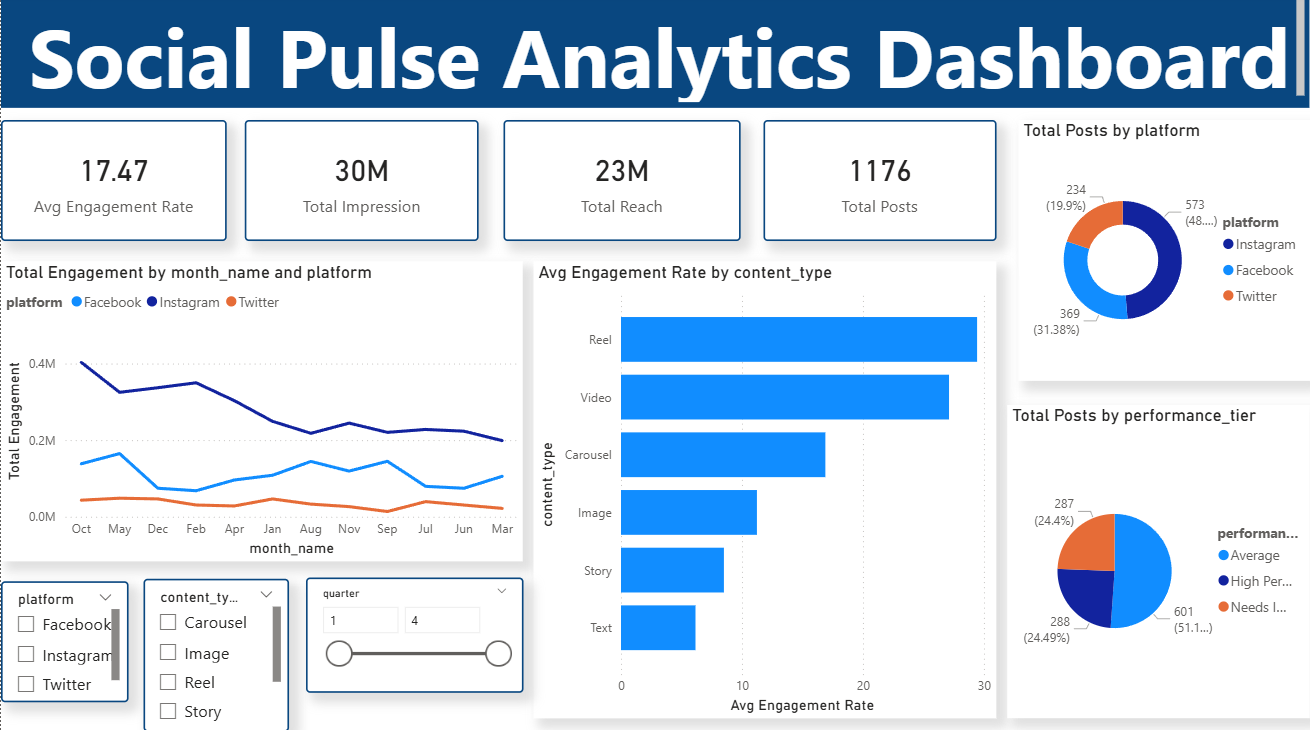

This screenshot's page, from the dashboard's own definition file:
{"tool":"powerbi","page":{"name":"Page 1","canvas":[1280,720],"ordinal":0},"visuals":[{"type":"card","fields":{"Values":["DateTable.Total Reach"]},"box":[491.3,122.1,231.9,118],"z":0},{"type":"card","fields":{"Values":["DateTable.Total Posts"]},"box":[746.5,122.1,227.8,118],"z":1000},{"type":"card","fields":{"Values":["DateTable.Total Impression"]},"box":[238.8,122.1,229.2,118],"z":2000},{"type":"card","fields":{"Values":["DateTable.Avg Engagement Rate"]},"box":[0,122.1,220.9,118],"z":3000},{"type":"lineChart","fields":{"Category":["social_media_cleaned.month_name"],"Y":["DateTable.Total Engagement"],"Series":["social_media_cleaned.platform"]},"box":[0,260.7,510.5,293.7],"z":4000},{"type":"donutChart","fields":{"Category":["social_media_cleaned.platform"],"Y":["DateTable.Total Posts"]},"box":[994.9,122.1,285.4,255.2],"z":5000},{"type":"clusteredBarChart","fields":{"Category":["social_media_cleaned.content_type"],"Y":["DateTable.Avg Engagement Rate"]},"box":[521.4,260.7,452.8,447.3],"z":6000},{"type":"slicer","fields":{"Values":["social_media_cleaned.platform"]},"box":[0,573.6,124.9,118],"z":7000},{"type":"slicer","fields":{"Values":["social_media_cleaned.quarter"]},"box":[297.8,569.5,212.7,112.5],"z":8000},{"type":"slicer","fields":{"Values":["social_media_cleaned.content_type"]},"box":[140,570.8,142.7,149.6],"z":9000},{"type":"pieChart","fields":{"Category":["social_media_cleaned.performance_tier"],"Y":["DateTable.Total Posts"]},"box":[983.9,400.7,296.4,306],"z":10000},{"type":"textbox","box":[0,0,1280,110],"z":11000}]}

Visuals, with their boxes in screenshot pixels (x1, y1, x2, y2), scaled from the page's 1280x720 canvas onto the 1310x730 screenshot:
card - DateTable.Total Reach: bbox(503, 124, 740, 243)
card - DateTable.Total Posts: bbox(764, 124, 997, 243)
card - DateTable.Total Impression: bbox(244, 124, 479, 243)
card - DateTable.Avg Engagement Rate: bbox(0, 124, 226, 243)
lineChart - social_media_cleaned.month_name x DateTable.Total Engagement: bbox(0, 264, 522, 562)
donutChart - social_media_cleaned.platform x DateTable.Total Posts: bbox(1018, 124, 1309, 383)
clusteredBarChart - social_media_cleaned.content_type x DateTable.Avg Engagement Rate: bbox(534, 264, 997, 718)
slicer - social_media_cleaned.platform: bbox(0, 582, 128, 701)
slicer - social_media_cleaned.quarter: bbox(305, 577, 522, 691)
slicer - social_media_cleaned.content_type: bbox(143, 579, 289, 729)
pieChart - social_media_cleaned.performance_tier x DateTable.Total Posts: bbox(1007, 406, 1309, 717)
textbox: bbox(0, 0, 1309, 112)
